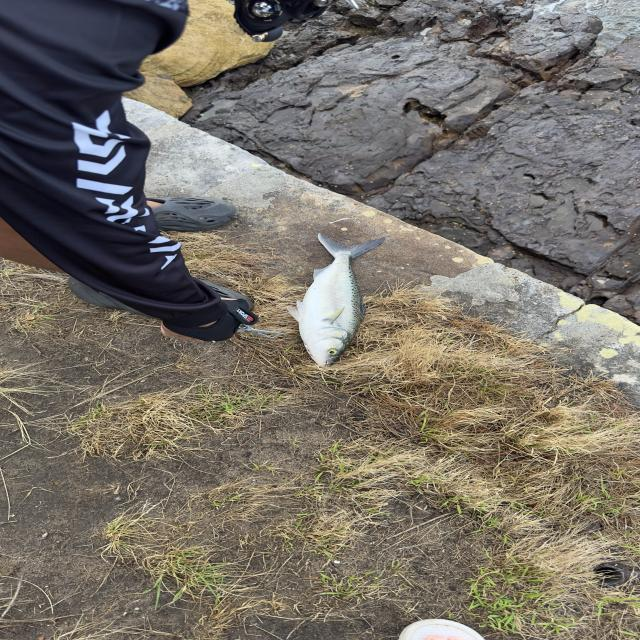Australian Salmon: (266, 228, 400, 372)
